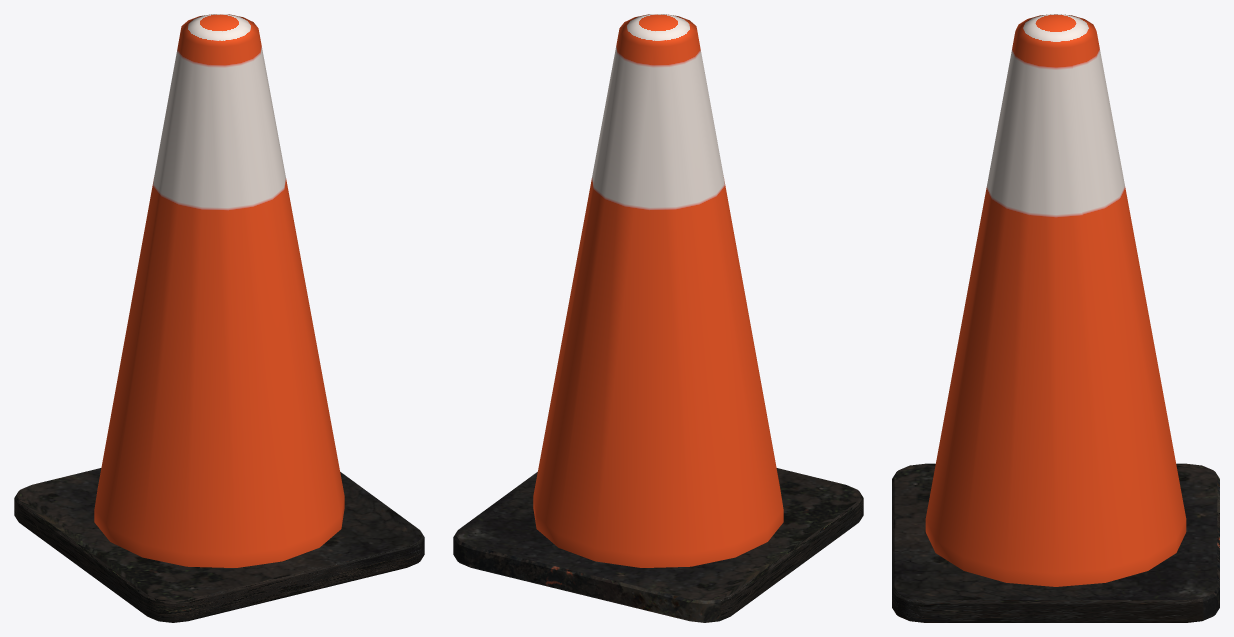
The model's file is cono.obj.
3 views of the same model, side by side, from view 1: azimuth 30°, elevation 25°; view 2: azimuth 150°, elevation 25°; view 3: azimuth 270°, elevation 25° (orthographic). The views are drawn at different scales.
Visible parts, largest first — view 1: cono; view 2: cono; view 3: cono.
Boxes of the visible parts, x1=… form: cono: x1=14, y1=14, x2=424, y2=622; cono: x1=453, y1=14, x2=863, y2=622; cono: x1=892, y1=14, x2=1219, y2=622.
Size of the model in its own units: 0.26 by 0.4672 by 0.26.
Materials: 2 (2 with a texture image).
